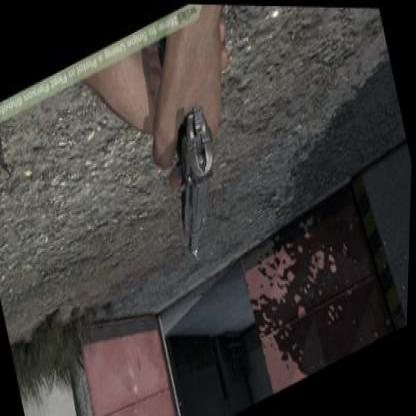pistol: (139, 18, 243, 269)
